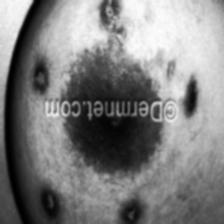Non-Cancerous Skin Condition: (35, 181, 64, 224), (94, 0, 128, 35), (29, 64, 54, 96), (120, 200, 147, 224)
